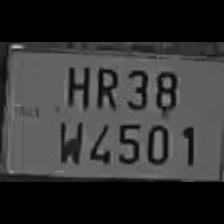0: (141, 118, 170, 164)
1: (174, 120, 200, 166)
3: (120, 62, 150, 110)
4: (84, 114, 110, 166)
5: (114, 116, 140, 164)
8: (149, 66, 178, 114)
H: (58, 60, 92, 110)
R: (90, 62, 120, 110)
W: (53, 114, 83, 166)
